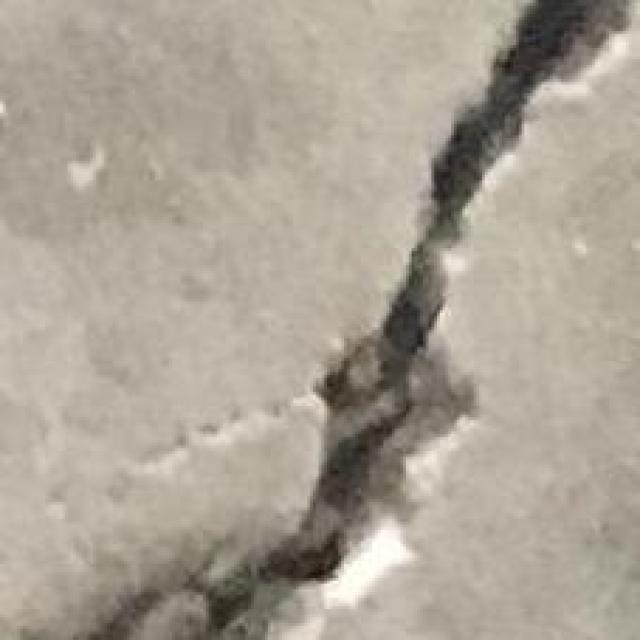diagonal crack: (89, 0, 628, 639)
